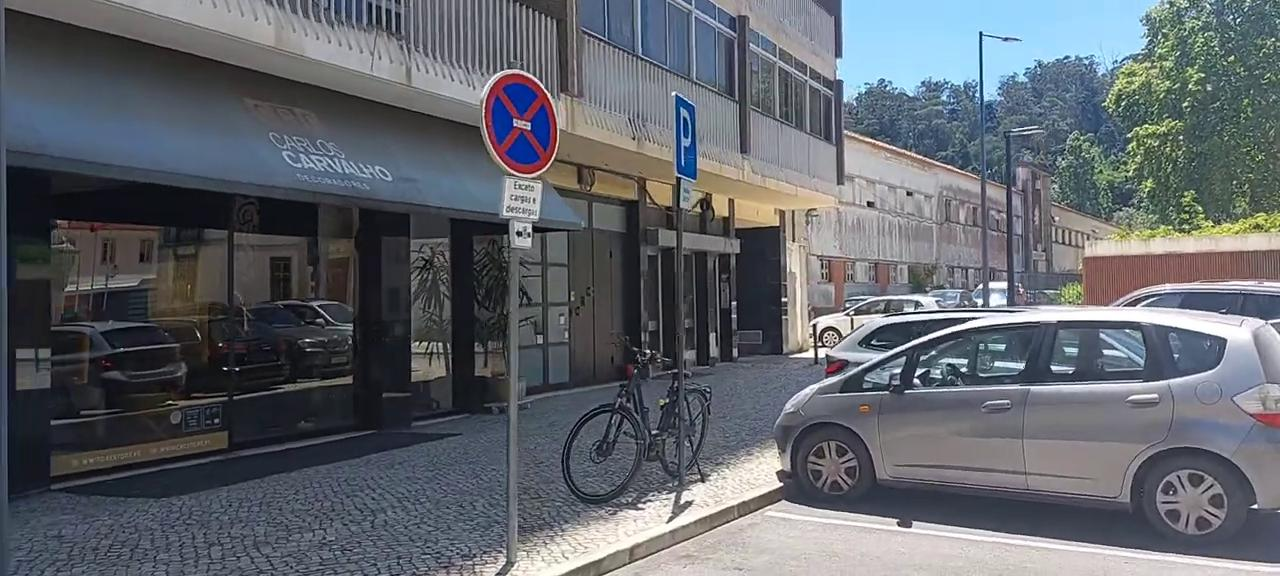Estacionamento autorizado: (674, 94, 698, 182)
paragem e estacionamento proibido: (479, 71, 564, 179)
